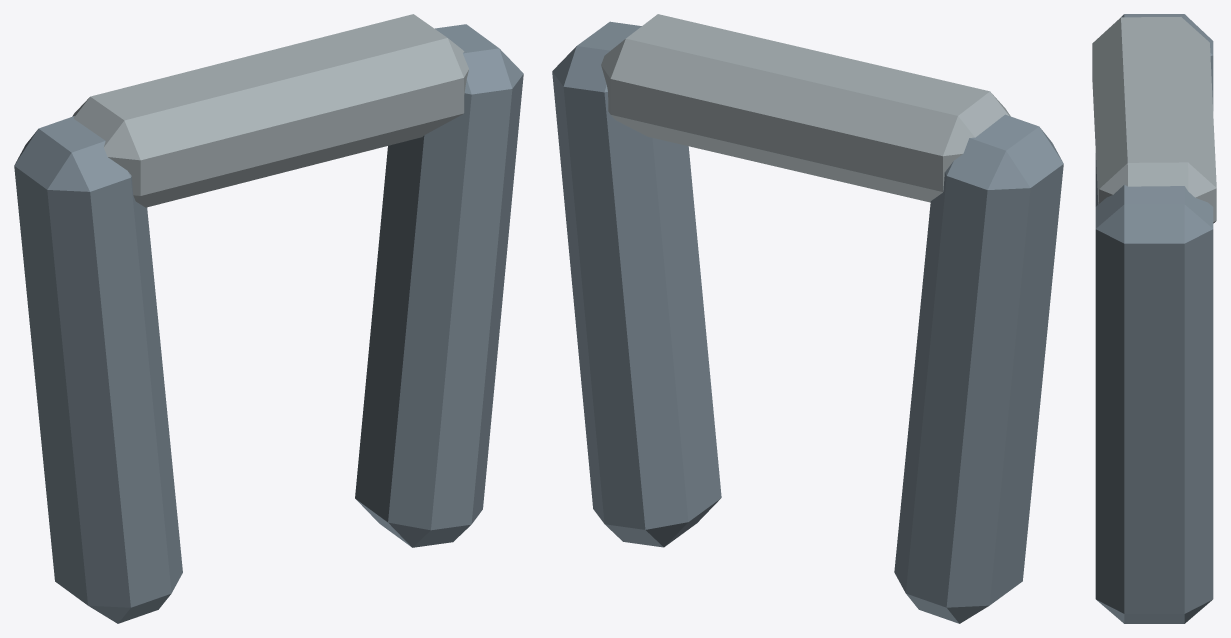
The model's file is Landmark_02_LOD0.fbx.
3 renders of one model, left to right at view 1: azimuth 30°, elevation 25°; view 2: azimuth 150°, elevation 25°; view 3: azimuth 270°, elevation 25°, orthographic. The views are drawn at different scales.
Parts seen in each view (by area): view 1: Landmark_02_LOD0; view 2: Landmark_02_LOD0; view 3: Landmark_02_LOD0.
Part boxes in pixels (x1,y1,x2,y2): Landmark_02_LOD0: (14,14,523,623); Landmark_02_LOD0: (552,14,1063,623); Landmark_02_LOD0: (1092,14,1216,623).
Bounding box in the file's own units: 350 × 353 × 86.78.
